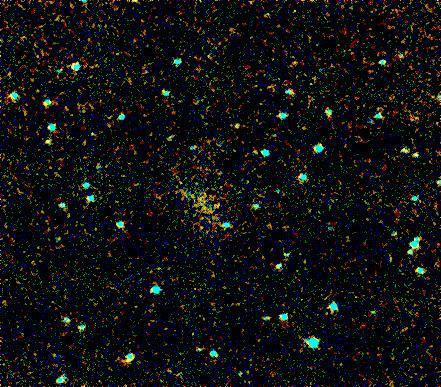star: (202, 190, 232, 220)
